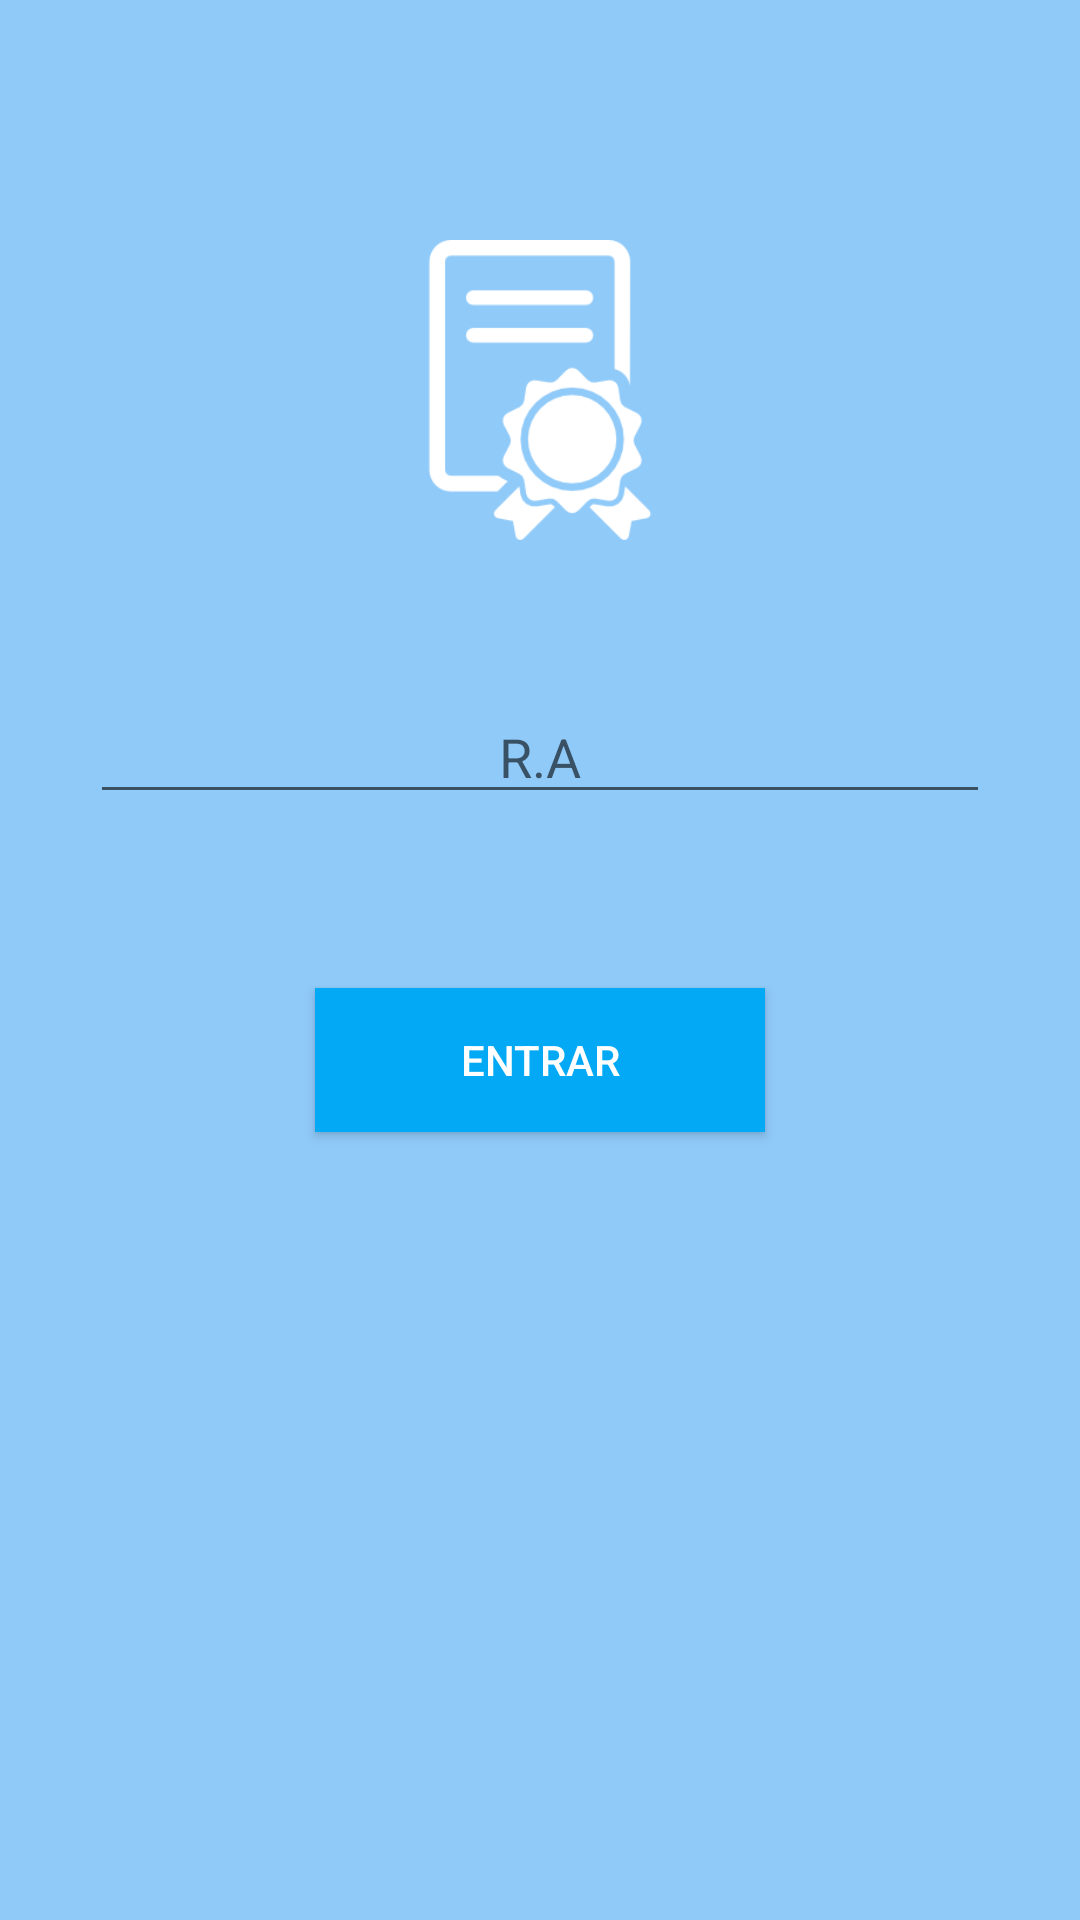

Where icons sit on this 1080x1920 app screen, as box=[x1, y1, x2, y2]:
certificate diploma: box=[429, 240, 651, 540]
